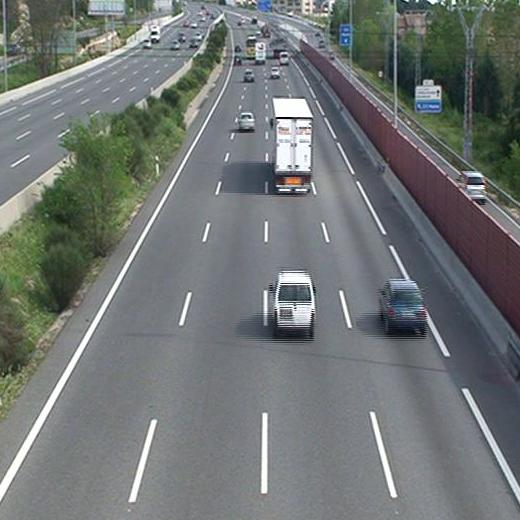car: (380, 280, 429, 333), (237, 112, 255, 132), (242, 69, 255, 82), (268, 66, 281, 79), (232, 55, 242, 64)
truck: (269, 96, 312, 195), (255, 42, 266, 62)
van: (268, 271, 317, 339), (279, 51, 292, 66)
